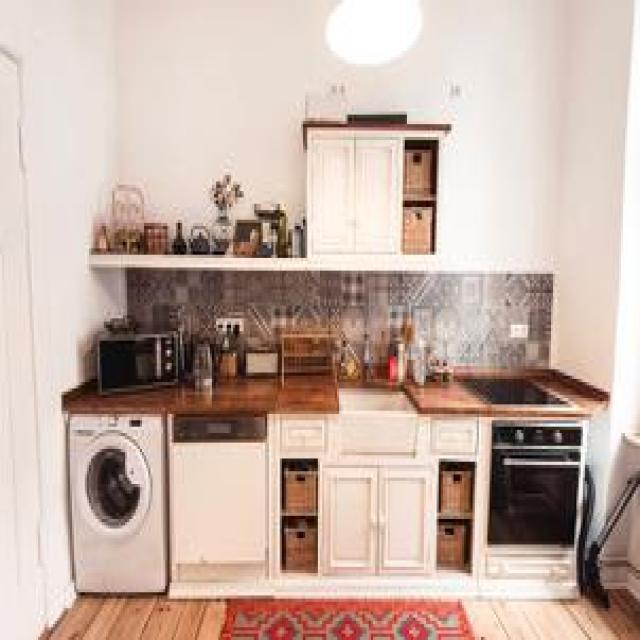dishwasher: (165, 411, 267, 595)
